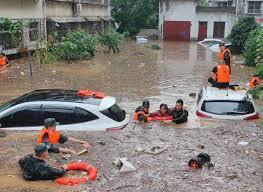water: (0, 38, 225, 129), (0, 130, 62, 191)
